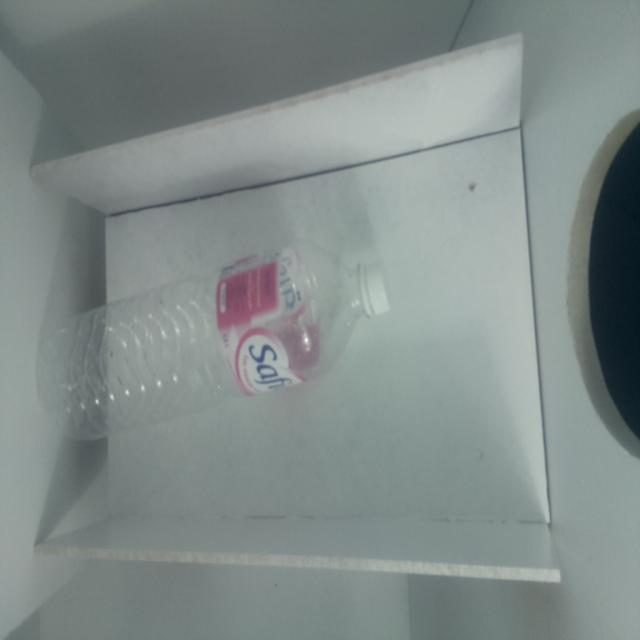Anorganik: (22, 233, 390, 432)
